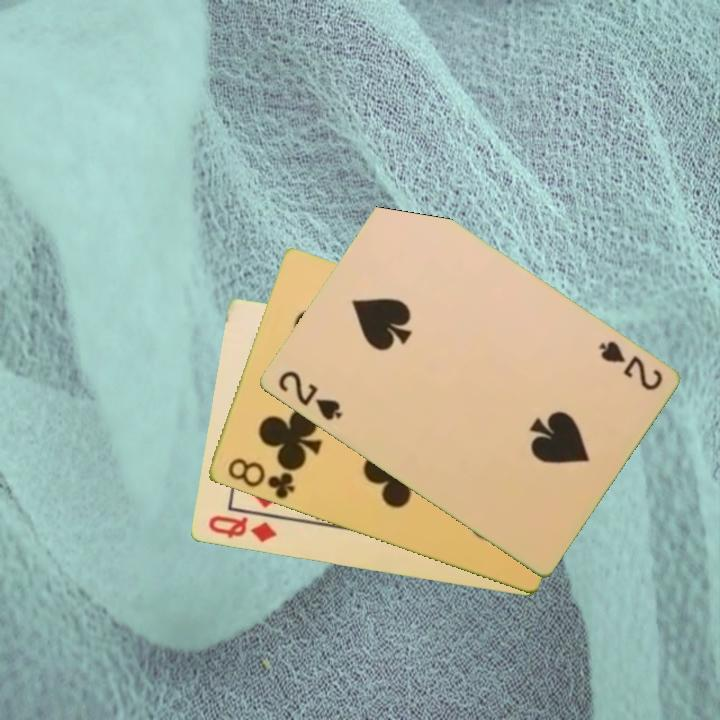2s: (274, 367, 345, 424), (594, 337, 665, 394)
8c: (223, 454, 297, 503)
Qd: (204, 512, 279, 546)
